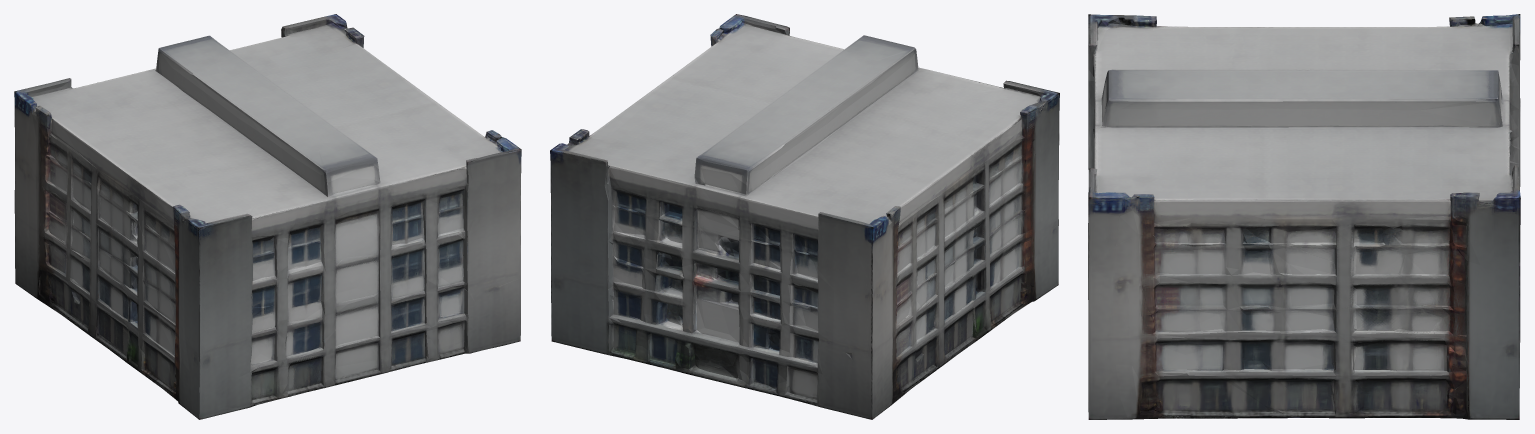
Rendered from D_block.glb.
3 views of the same model, side by side, from view 1: azimuth 30°, elevation 25°; view 2: azimuth 150°, elevation 25°; view 3: azimuth 270°, elevation 25° (orthographic). The views are drawn at different scales.
Visible parts, largest first — view 1: world; view 2: world; view 3: world.
Part boxes in pixels (x1,y1,x2,y2): world: [14, 14, 521, 419]; world: [550, 14, 1059, 419]; world: [1088, 14, 1520, 419].
Size of the model in its own units: 0.4925 by 0.307 by 0.4903.
Materials: 1 (1 with a texture image).
